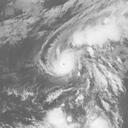cyclone: (37, 40, 94, 85)
